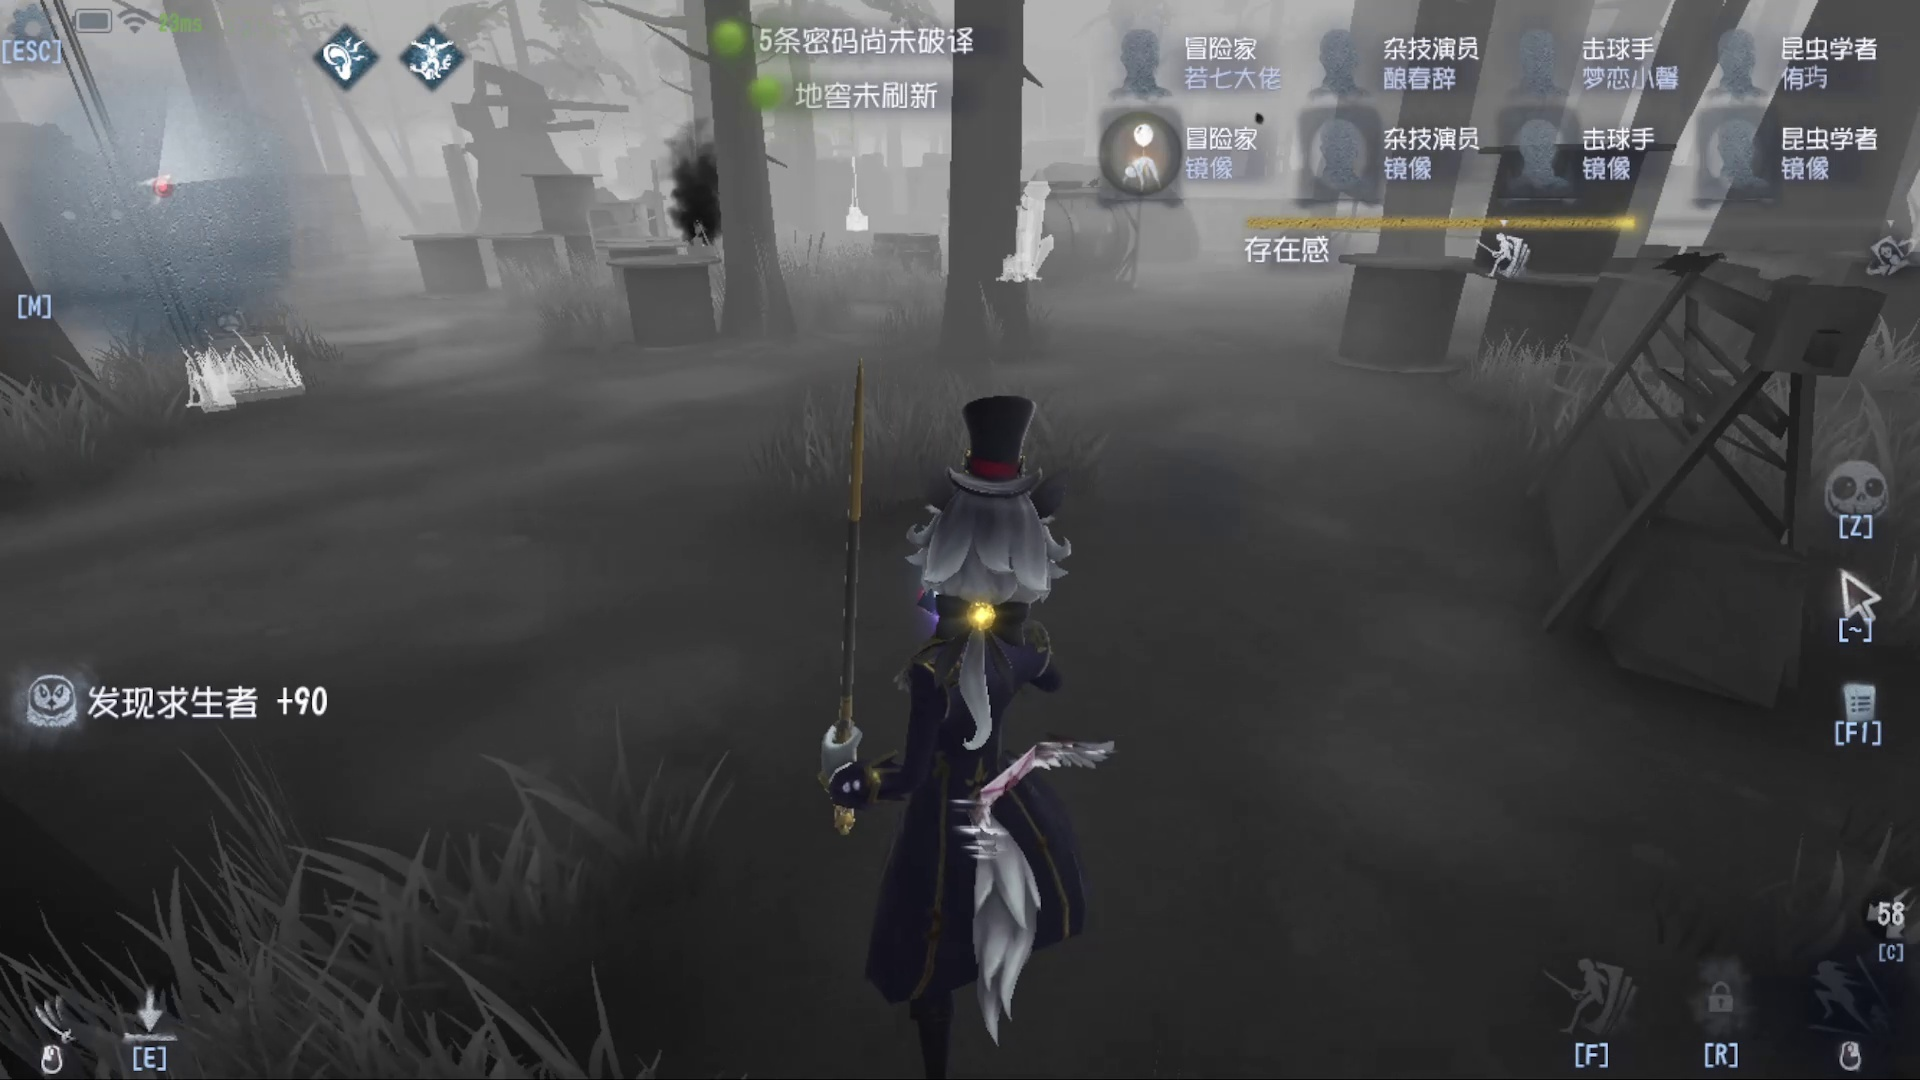密码机: (65, 69, 348, 431), (825, 87, 894, 237)
狂欢之椅: (1001, 162, 1065, 298)
